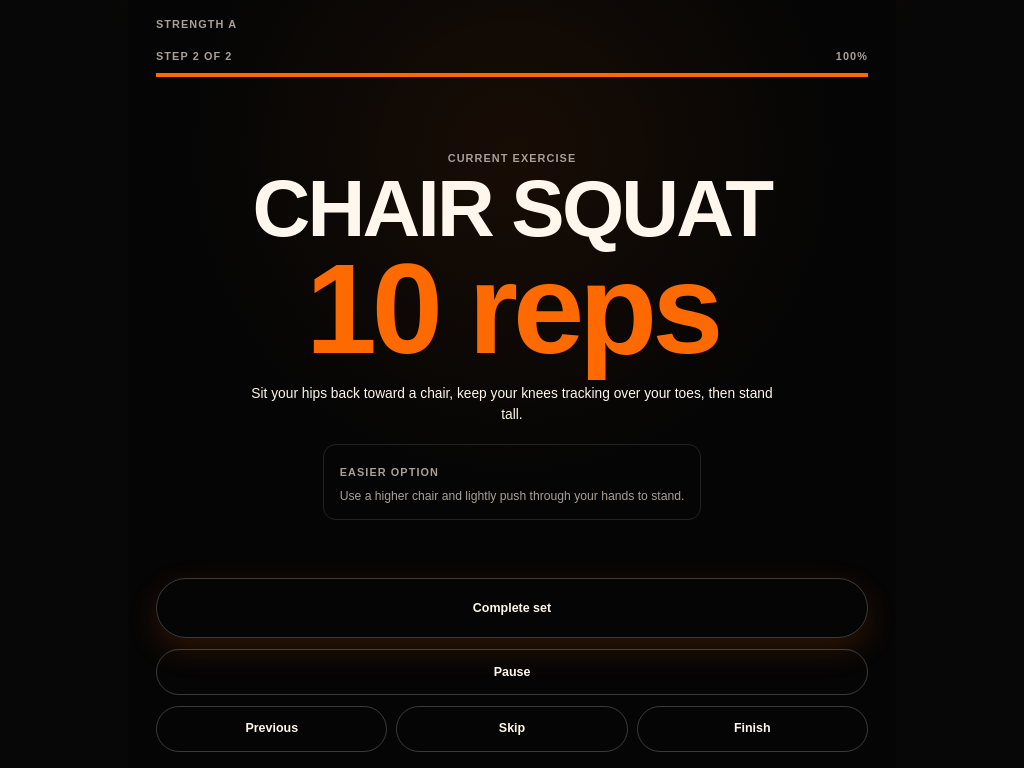
it: StrengthPage › lets the runner complete a repetition set manually
The width and height of the screenshot is (1024, 768).
Expected: the heading "Chair squat" is shown, [253,175,771,242]
Expected: the text "10 reps" is shown, [306,259,718,359]
Step 1. Click the button "Complete set" → (512, 608), box [156,578,868,638]
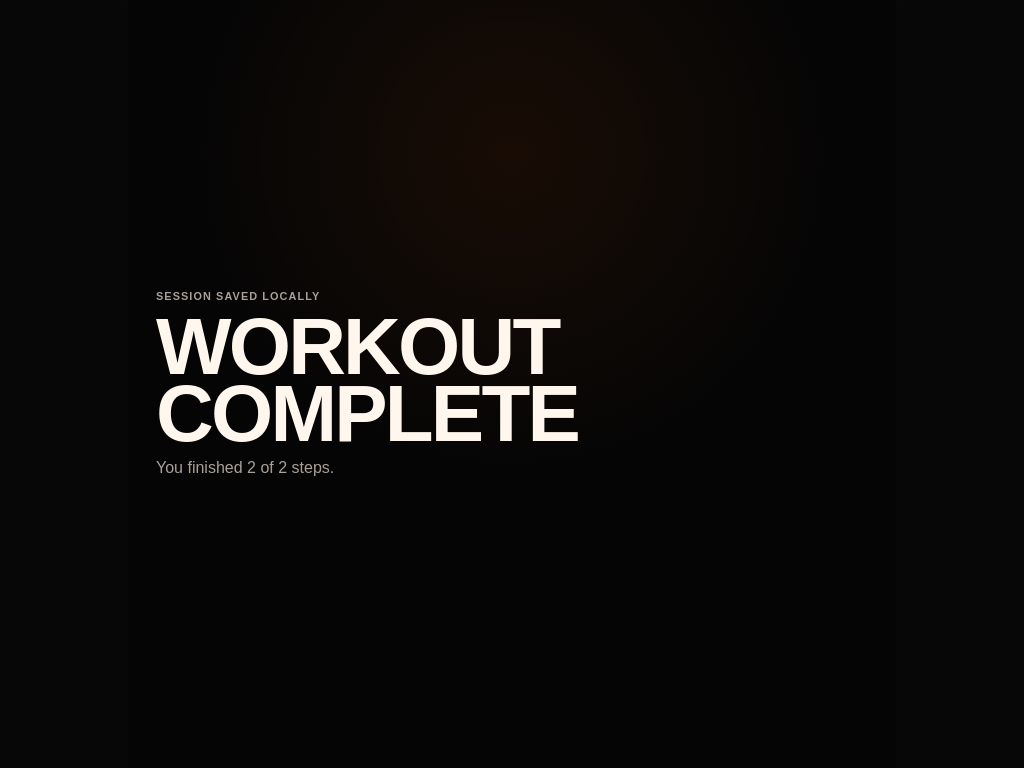
Expected: the heading "Workout complete" is shown, [156,302,578,458]
